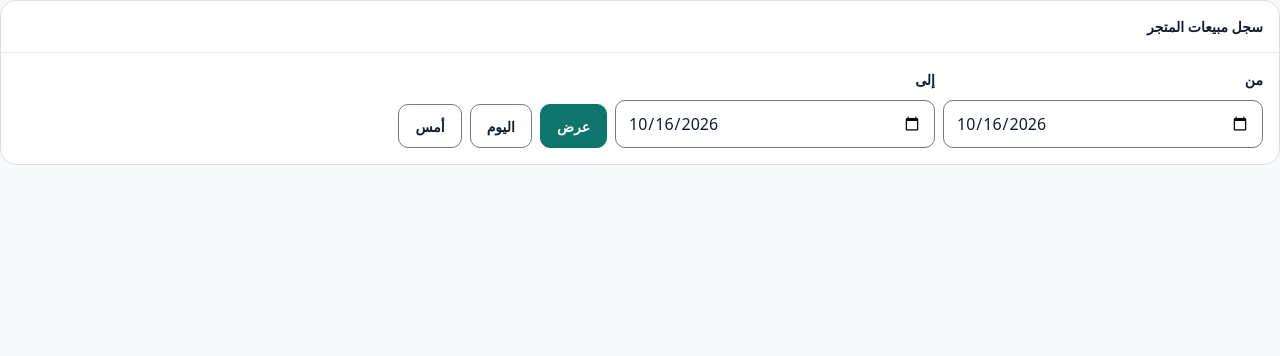
RT-553 zone mismatch notice › re-reads after a history answer, so a flag raised by that page appears
This screenshot has width=1280, height=356.
Click the button "عرض". click: [574, 126]
box: [540,104,607,148]
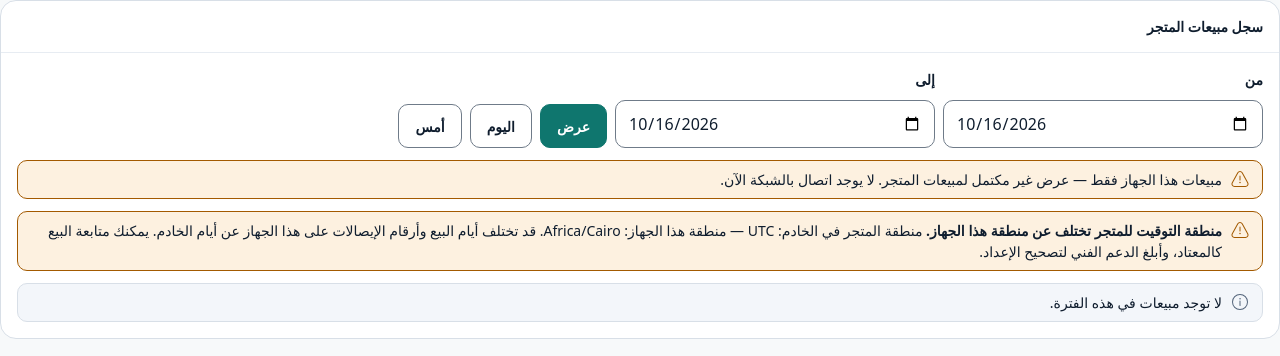
Expected: the message with test id "history-zone-mismatch" is shown, [17,211,1263,271]
